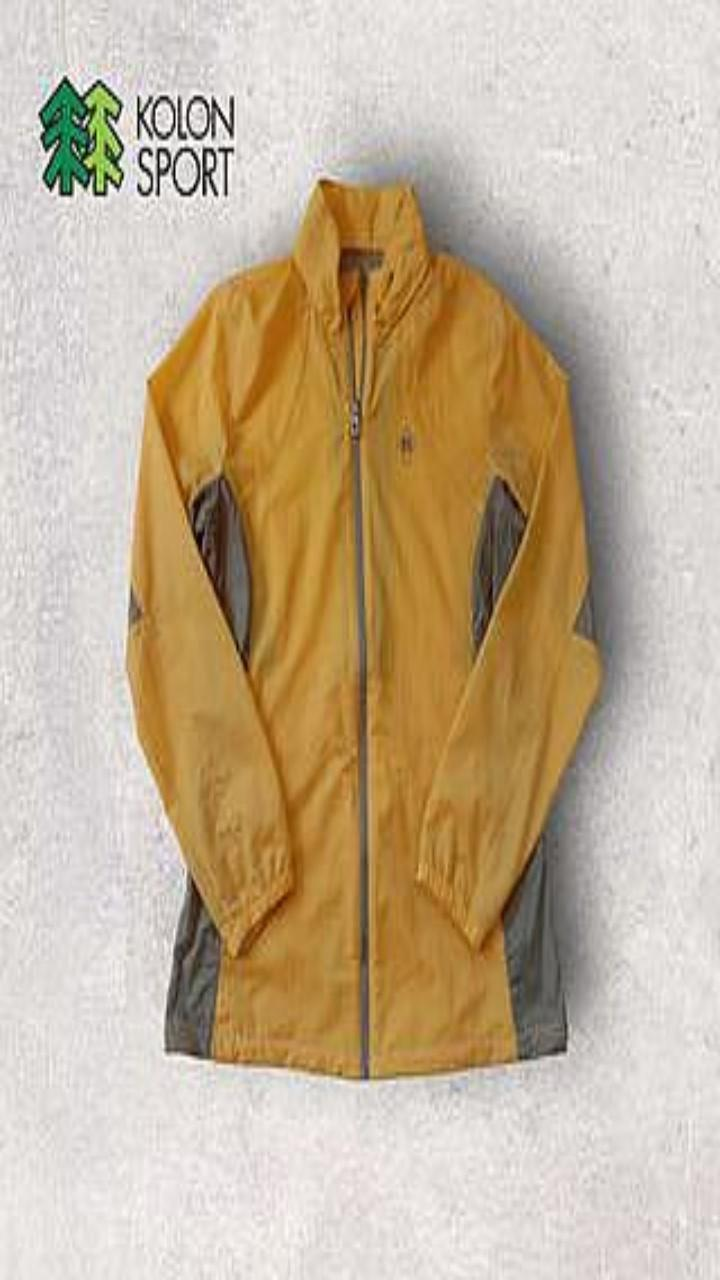Sports_Jacket: (126, 178, 601, 1077)
